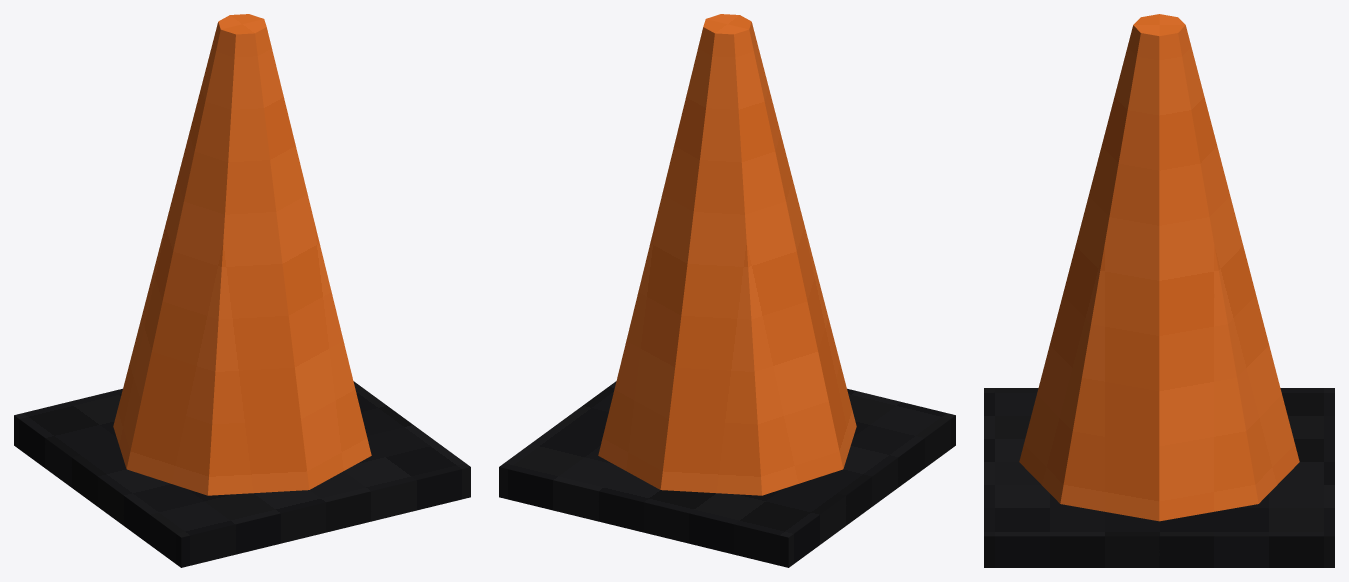
File: env_traffic_cone.glb
3 views of the same model, side by side, from view 1: azimuth 30°, elevation 25°; view 2: azimuth 150°, elevation 25°; view 3: azimuth 270°, elevation 25° (orthographic). The views are drawn at different scales.
Parts seen in each view (by area): view 1: env_traffic_cone; view 2: env_traffic_cone; view 3: env_traffic_cone.
Boxes of the visible parts, x1,y1,x2,y2 form: env_traffic_cone: [14, 14, 470, 567]; env_traffic_cone: [499, 14, 955, 567]; env_traffic_cone: [984, 14, 1334, 567].
Bounding box in the file's own units: 0.4 × 0.59 × 0.4.
2 materials, 2 textured.
